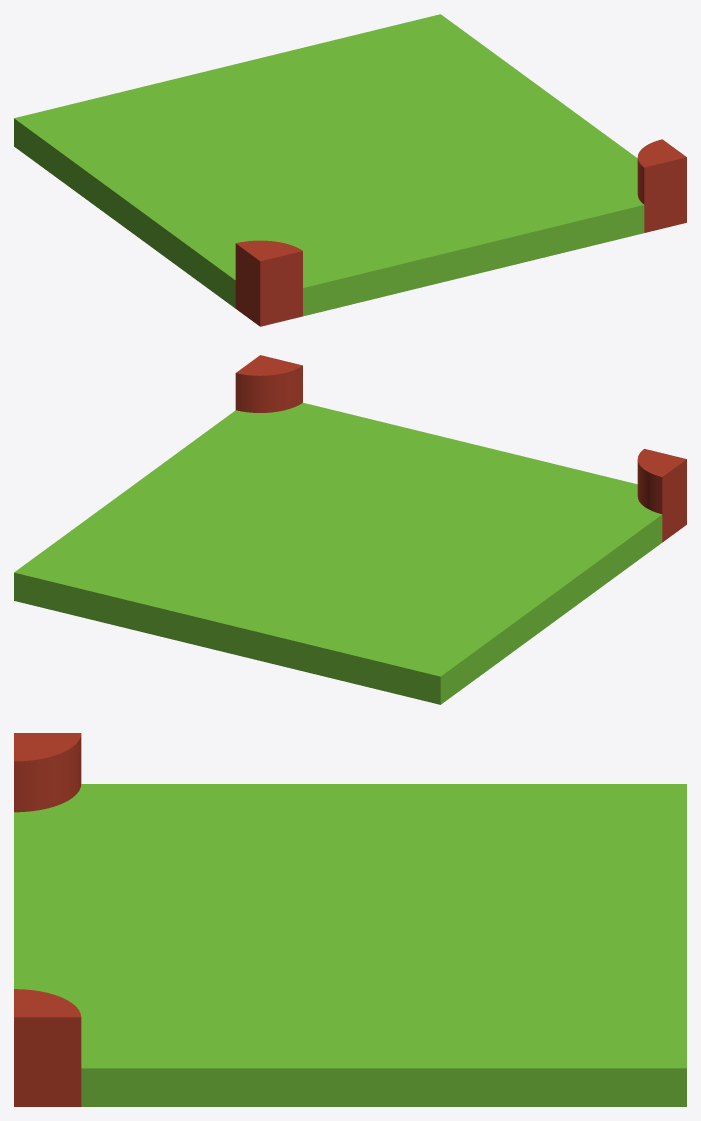
Rendered from Walls_to_open_01.obj.
3 views of the same model, one above another, from view 1: azimuth 30°, elevation 25°; view 2: azimuth 150°, elevation 25°; view 3: azimuth 270°, elevation 25° (orthographic). The views are drawn at different scales.
Visible parts, largest first — view 1: Mesh1_Walls_to_open_Model; view 2: Mesh1_Walls_to_open_Model; view 3: Mesh1_Walls_to_open_Model.
Boxes of the visible parts, x1=… form: Mesh1_Walls_to_open_Model: x1=14, y1=14, x2=686, y2=326; Mesh1_Walls_to_open_Model: x1=14, y1=355, x2=686, y2=704; Mesh1_Walls_to_open_Model: x1=14, y1=733, x2=686, y2=1106.
Size of the model in its own units: 3 by 0.44 by 3.
